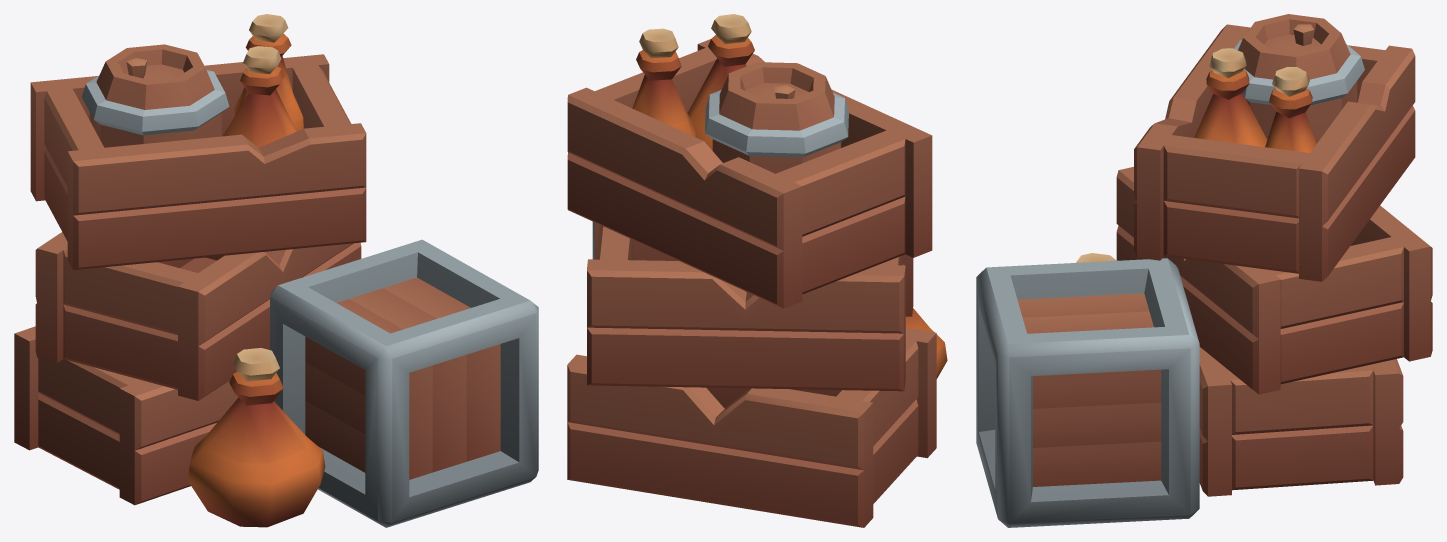
File: crates_stacked.gltf
3 views of the same model, side by side, from view 1: azimuth 30°, elevation 25°; view 2: azimuth 150°, elevation 25°; view 3: azimuth 270°, elevation 25° (orthographic). The views are drawn at different scales.
Parts seen in each view (by area): view 1: crates_stacked; view 2: crates_stacked; view 3: crates_stacked.
Part boxes in pixels (x1,y1,x2,y2): crates_stacked: (14, 14, 538, 527); crates_stacked: (567, 14, 947, 527); crates_stacked: (976, 14, 1432, 527).
Size of the model in its own units: 2.09 by 2.14 by 2.25.
Materials: 1 (1 with a texture image).
